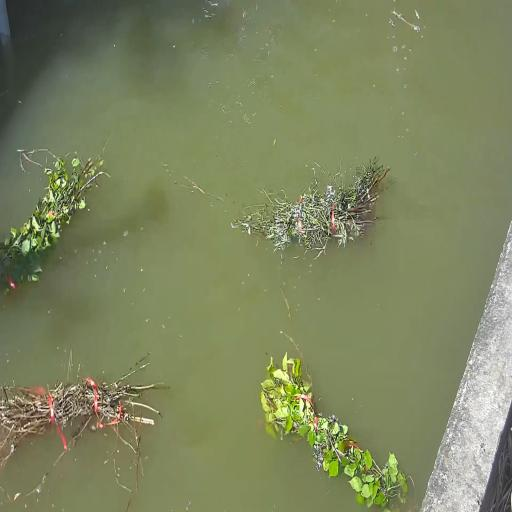twig: (261, 343, 415, 508), (0, 356, 164, 459), (0, 136, 100, 284), (240, 167, 376, 255)
